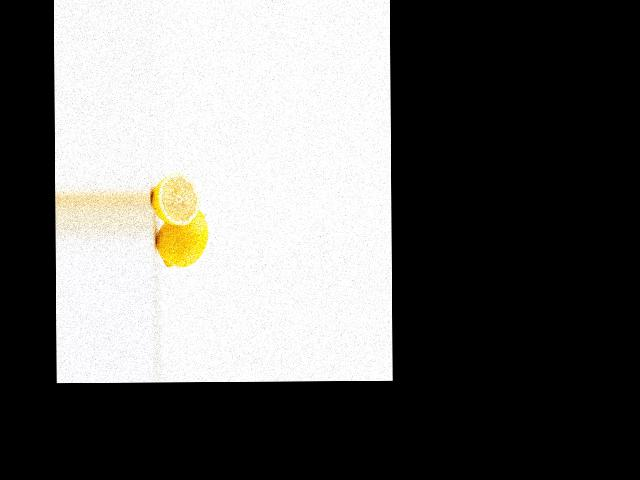lemon: (150, 204, 207, 269)
